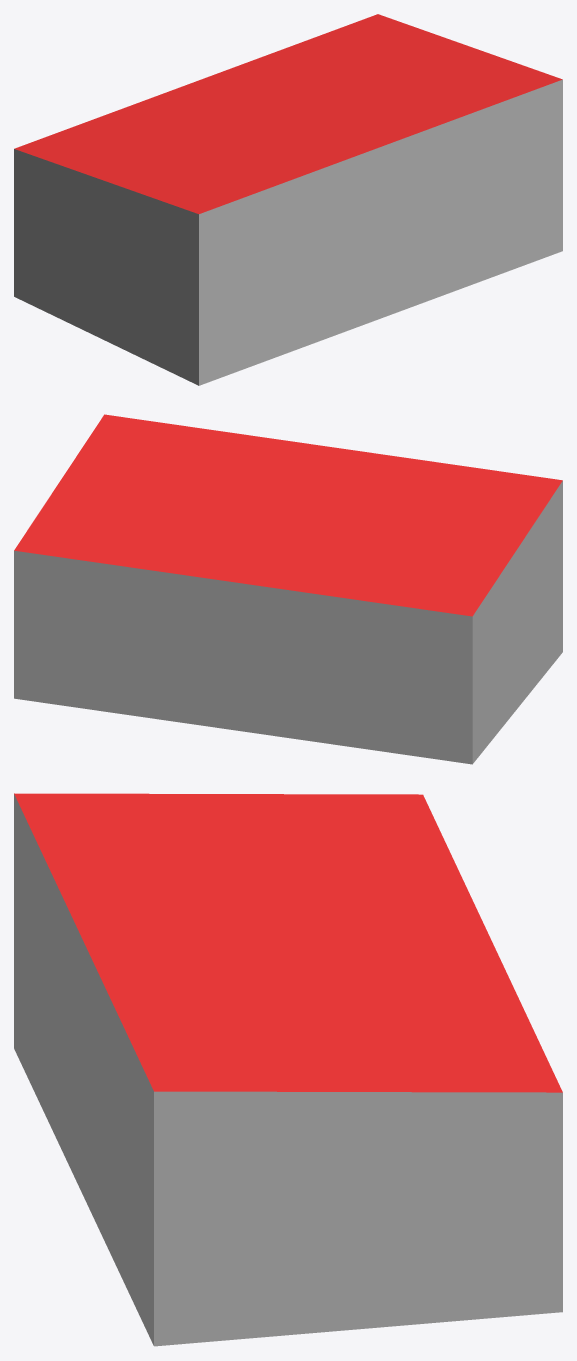
File: DEBE3D04YY500007pI.dae
The picture shows the model from 3 angles, top to bottom: view 1: azimuth 30°, elevation 25°; view 2: azimuth 150°, elevation 25°; view 3: azimuth 270°, elevation 25°; orthographic projection. The views are drawn at different scales.
Bounding box in the file's own units: 10.94 × 7.63 × 3.91.
